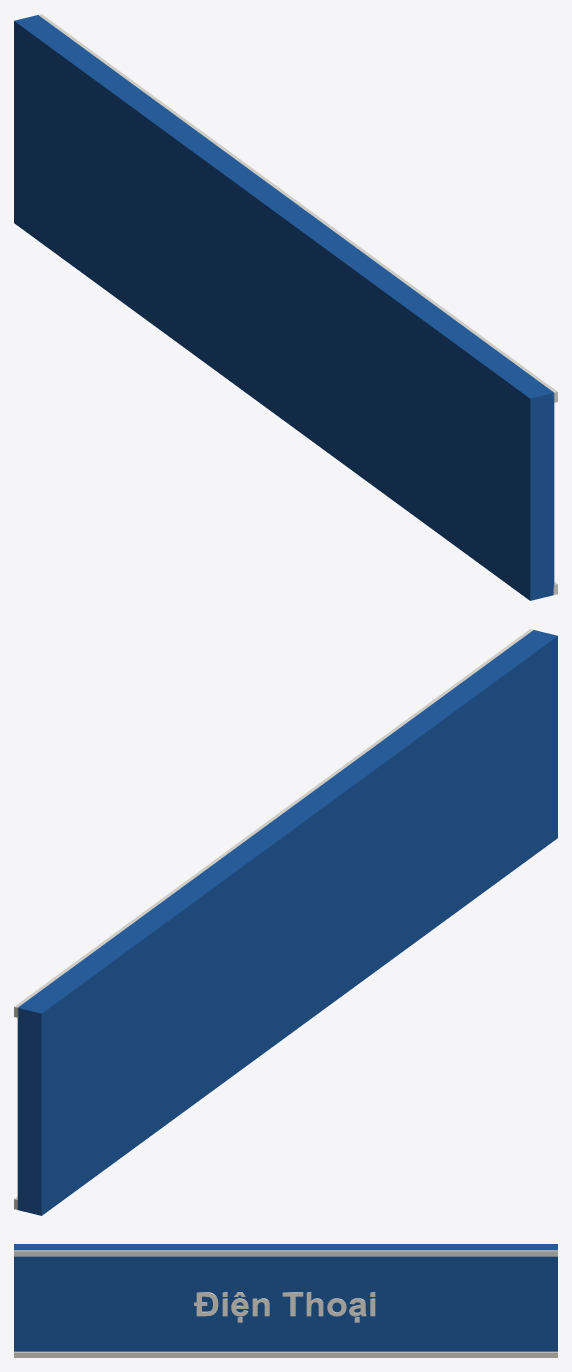
File: OW_Mau_Bang_8_0_10.fbx
3 views of the same model, one above another, from view 1: azimuth 30°, elevation 25°; view 2: azimuth 150°, elevation 25°; view 3: azimuth 270°, elevation 25° (orthographic). The views are drawn at different scales.
Parts seen in each view (by area): view 1: OW_Bang_Điện Thoại.005; view 2: OW_Bang_Điện Thoại.005; view 3: OW_Bang_Điện Thoại.005, Chữ • Điện Thoại.005_Mesh.
Part boxes in pixels (x1,y1,x2,y2): OW_Bang_Điện Thoại.005: (14, 14, 557, 600); OW_Bang_Điện Thoại.005: (14, 629, 557, 1215); OW_Bang_Điện Thoại.005: (14, 1244, 557, 1357); Chữ • Điện Thoại.005_Mesh: (194, 1292, 375, 1322).
Bounding box in the file's own units: 0.24 × 1.6 × 7.4.
